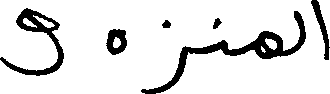9: (0, 5, 62, 75)
ا: (310, 0, 329, 60)
ز: (141, 18, 187, 92)
ل: (293, 8, 306, 52)
م: (257, 28, 282, 58)
ن: (213, 16, 229, 56)
ه: (104, 26, 126, 55)
